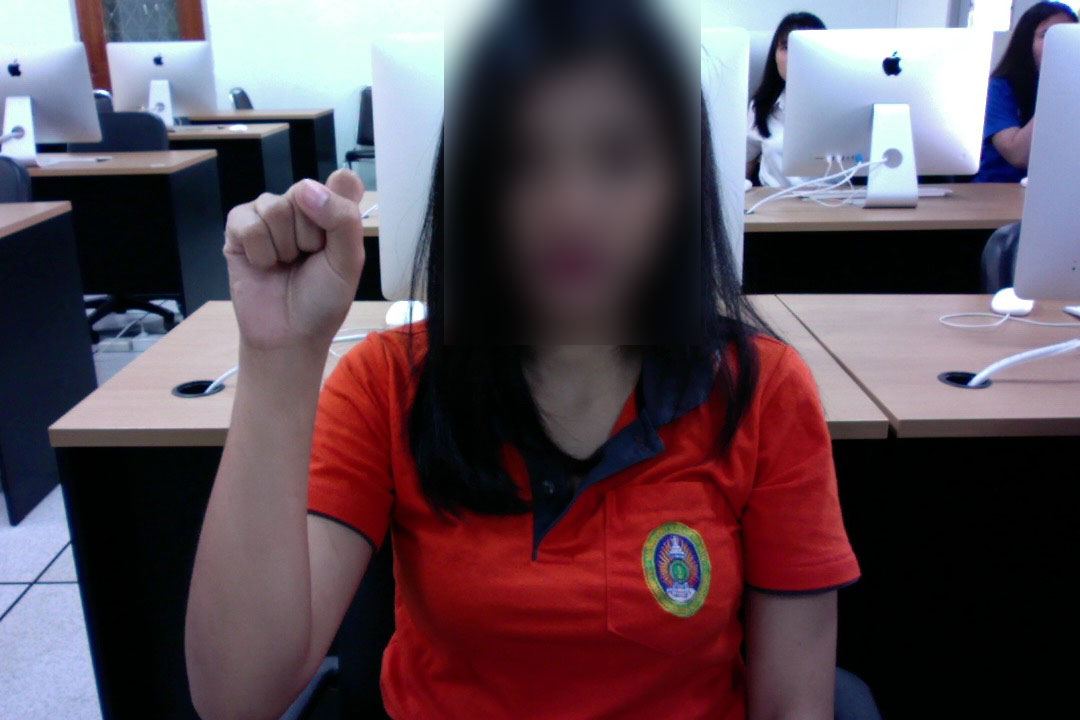sor: (212, 158, 379, 364)
